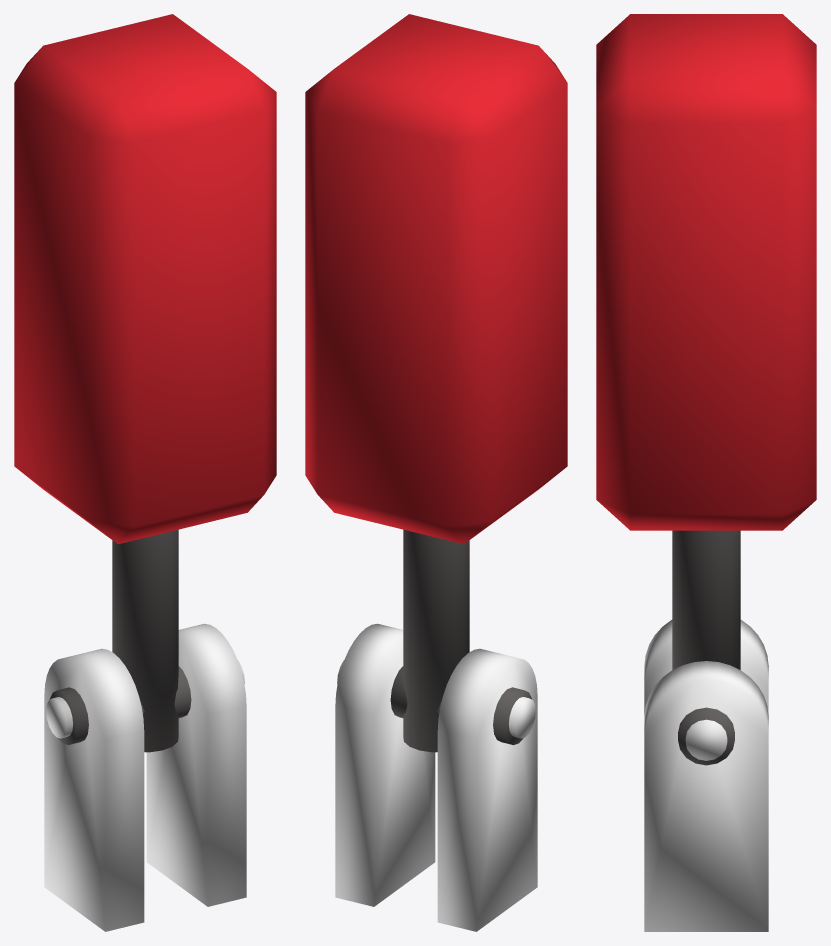
The model's file is Obstacle 23 V1.fbx.
3 renders of one model, left to right at view 1: azimuth 30°, elevation 25°; view 2: azimuth 150°, elevation 25°; view 3: azimuth 270°, elevation 25°, orthographic.
Visible parts, largest first — view 1: O23 Part 2, O23 Part 1; view 2: O23 Part 2, O23 Part 1; view 3: O23 Part 2, O23 Part 1.
Boxes of the visible parts, x1=… form: O23 Part 2: x1=14, y1=14, x2=276, y2=752; O23 Part 1: x1=44, y1=623, x2=246, y2=931; O23 Part 2: x1=305, y1=14, x2=567, y2=752; O23 Part 1: x1=335, y1=623, x2=537, y2=931; O23 Part 2: x1=596, y1=14, x2=816, y2=765; O23 Part 1: x1=644, y1=619, x2=768, y2=931.
Bounding box in the file's own units: 68.06 × 290 × 68.06.
1 material, 1 textured.
